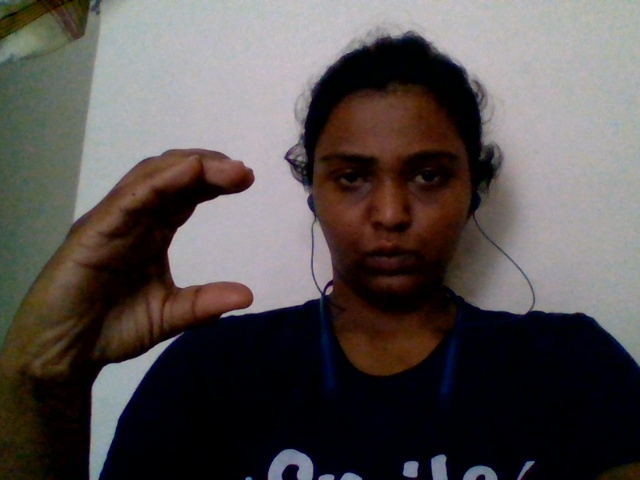No: (11, 121, 269, 364)
